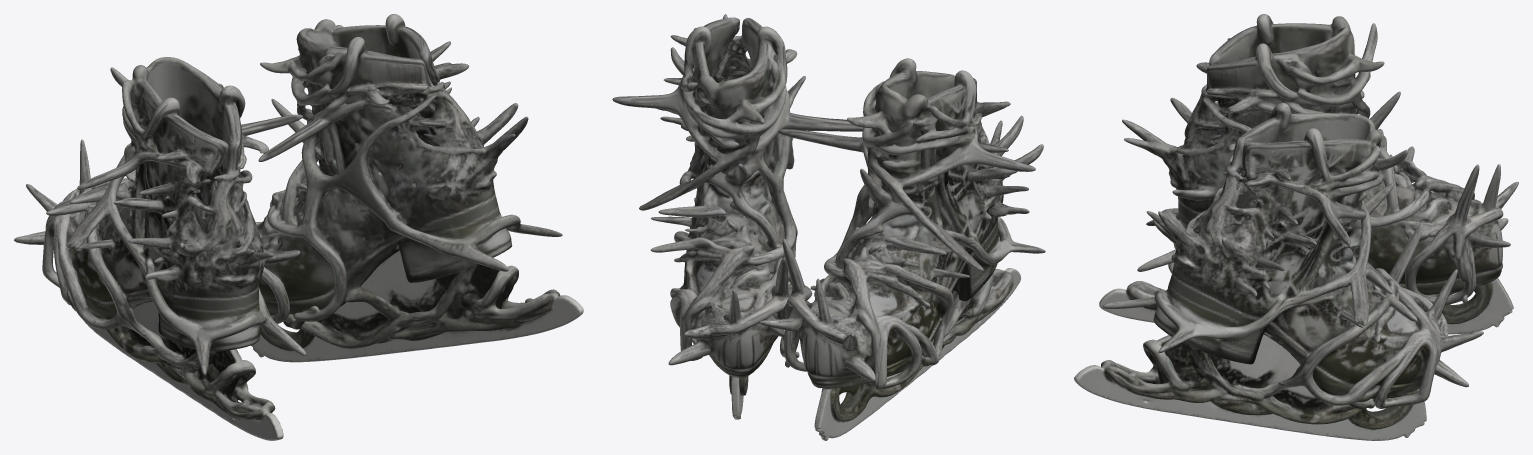
The model's file is sport-negative.glb.
3 views of the same model, side by side, from view 1: azimuth 30°, elevation 25°; view 2: azimuth 150°, elevation 25°; view 3: azimuth 270°, elevation 25° (orthographic). The views are drawn at different scales.
Parts seen in each view (by area): view 1: obj1.001, obj1; view 2: obj1, obj1.001; view 3: obj1.001, obj1.
Part boxes in pixels (box(x1,y1,x2,y2)): obj1.001: box(251, 14, 583, 362); obj1: box(14, 57, 306, 440); obj1: box(759, 58, 1045, 440); obj1.001: box(612, 14, 863, 419); obj1.001: box(1074, 102, 1483, 440); obj1: box(1099, 14, 1518, 334).
Bounding box in the file's own units: 1.91 × 1.54 × 1.78.
2 materials, 2 textured.
